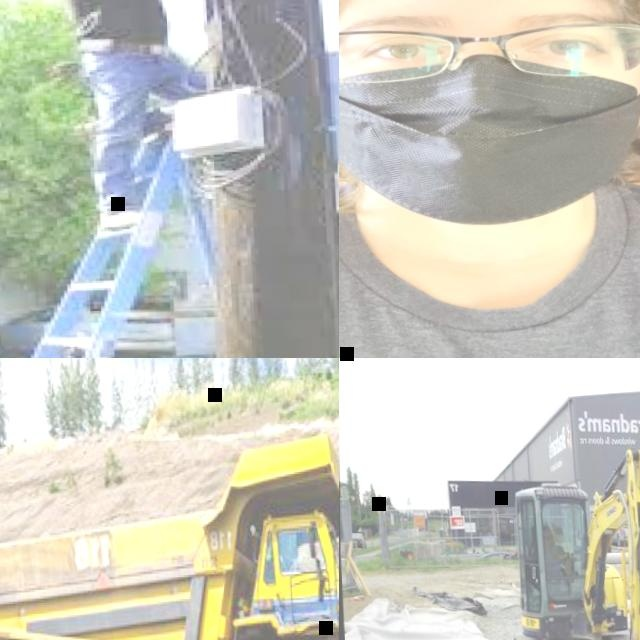Mask: (339, 51, 640, 228)
NO-Safety Vest: (339, 186, 640, 358), (72, 0, 166, 41)
Person: (339, 0, 640, 358), (56, 0, 238, 230), (540, 523, 567, 576), (261, 541, 291, 583)
Safety Vest: (264, 551, 289, 573)
machinery: (0, 423, 339, 640), (500, 446, 640, 640)
vehicle: (349, 531, 366, 549)
